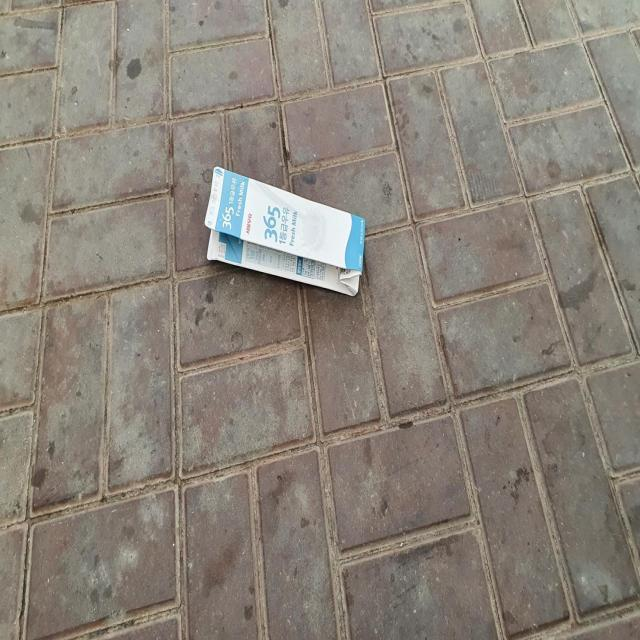paperpack: (204, 165, 365, 295)
